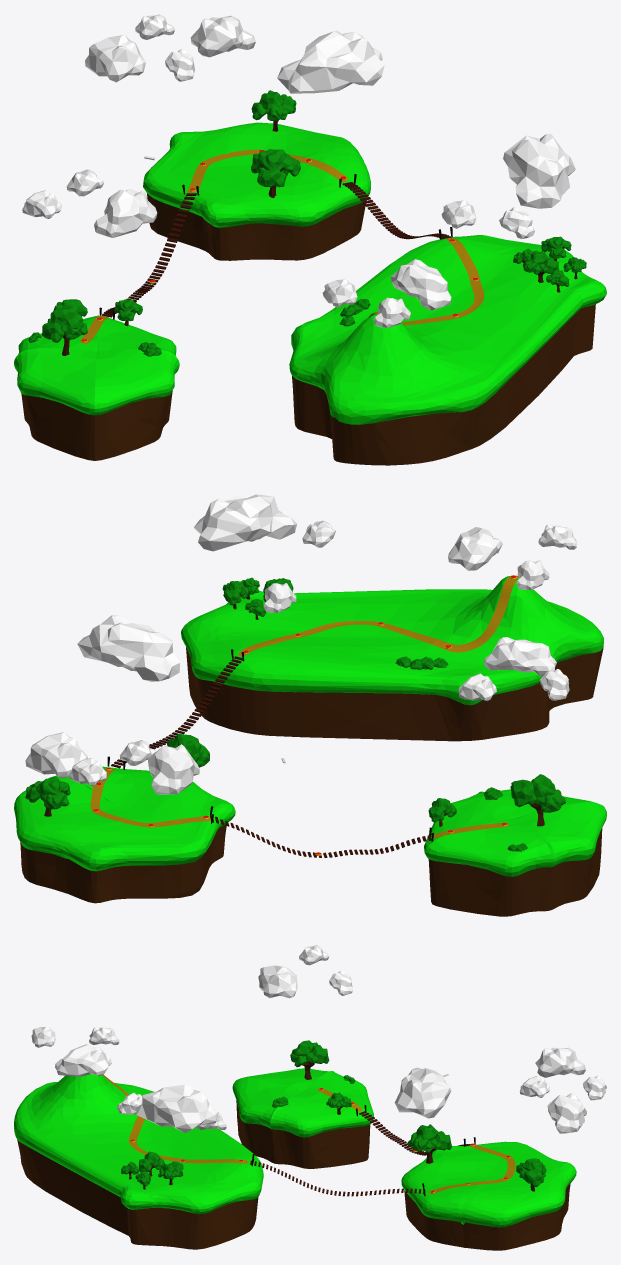
File: LP_Map.glb
3 renders of one model, top to bottom at view 1: azimuth 30°, elevation 25°; view 2: azimuth 150°, elevation 25°; view 3: azimuth 270°, elevation 25°, orthographic. The views are drawn at different scales.
Parts seen in each view (by area): view 1: Plane; view 2: Plane; view 3: Plane.
Boxes of the visible parts, left/top/right/bottom form: Plane: left=14, top=14, right=606, bottom=465; Plane: left=14, top=494, right=606, bottom=916; Plane: left=14, top=945, right=606, bottom=1250.
Bounding box in the file's own units: 105 × 51.84 × 145.
